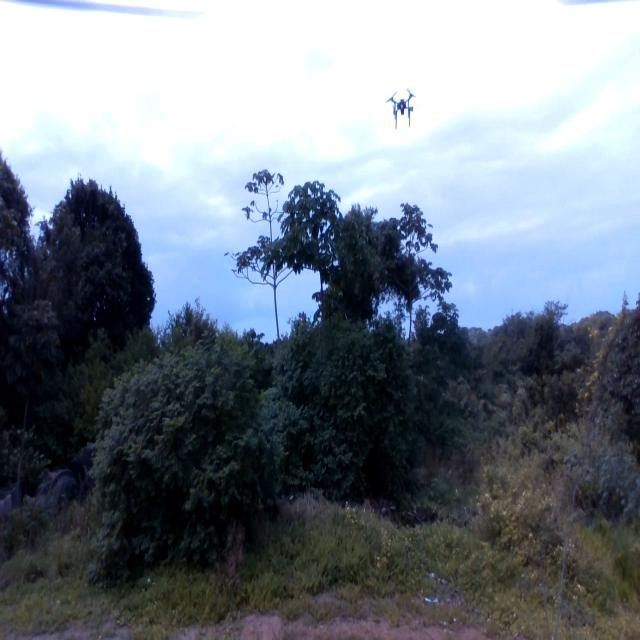-uav-: (381, 79, 422, 134)
